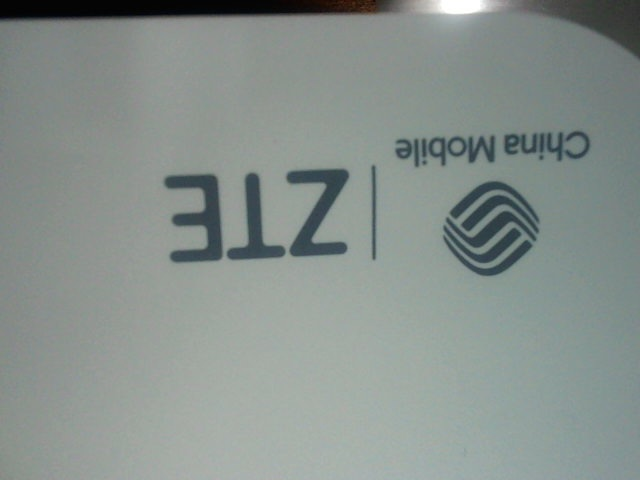AL_ZTEChinaMobile: (157, 108, 596, 280)
